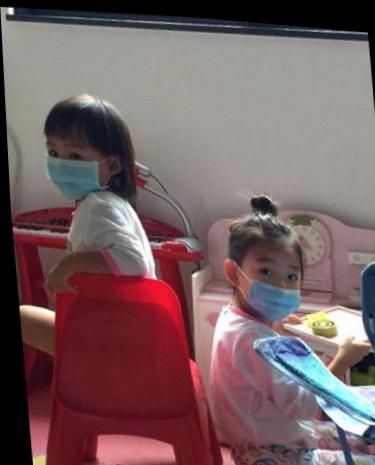OK: (40, 132, 105, 200)
WRONG: (235, 248, 305, 320)
